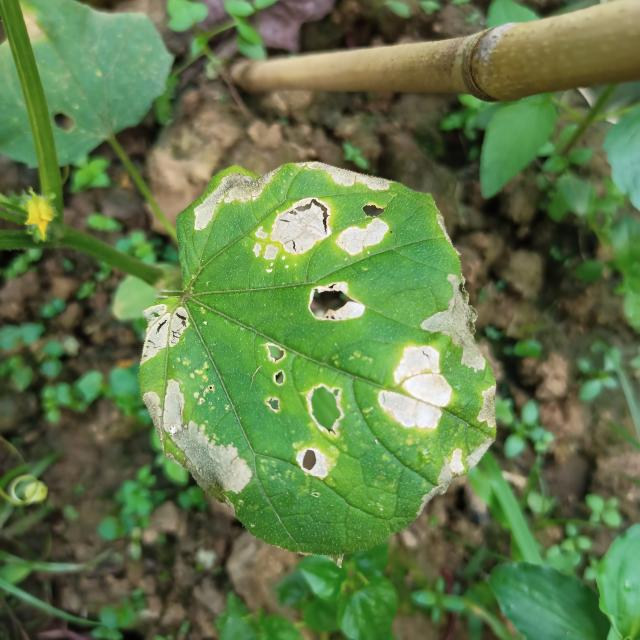disease_cucumber: (261, 268, 504, 502), (184, 157, 455, 270), (131, 296, 259, 510)
